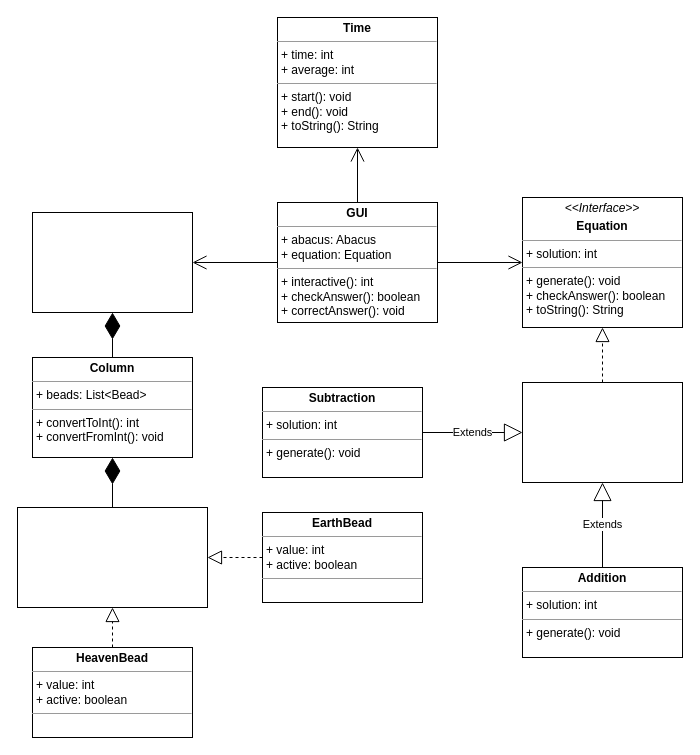
The diagram is 700 pixels wide and 755 high, and some of its shapes have lost their labels. Here are the shapes that lost their labels. From the top down, the centre of each, then its label:
At pixel 112 262: "Abacus + columns: List<Column> + convertToInt(): int + convertFromInt(): void".
At pixel 602 432: "GenericEquation + solution: int + checkAnswers(): boolean + toString(): String".
At pixel 112 557: "<<Interface>> Bead + value: int + active: boolean".
